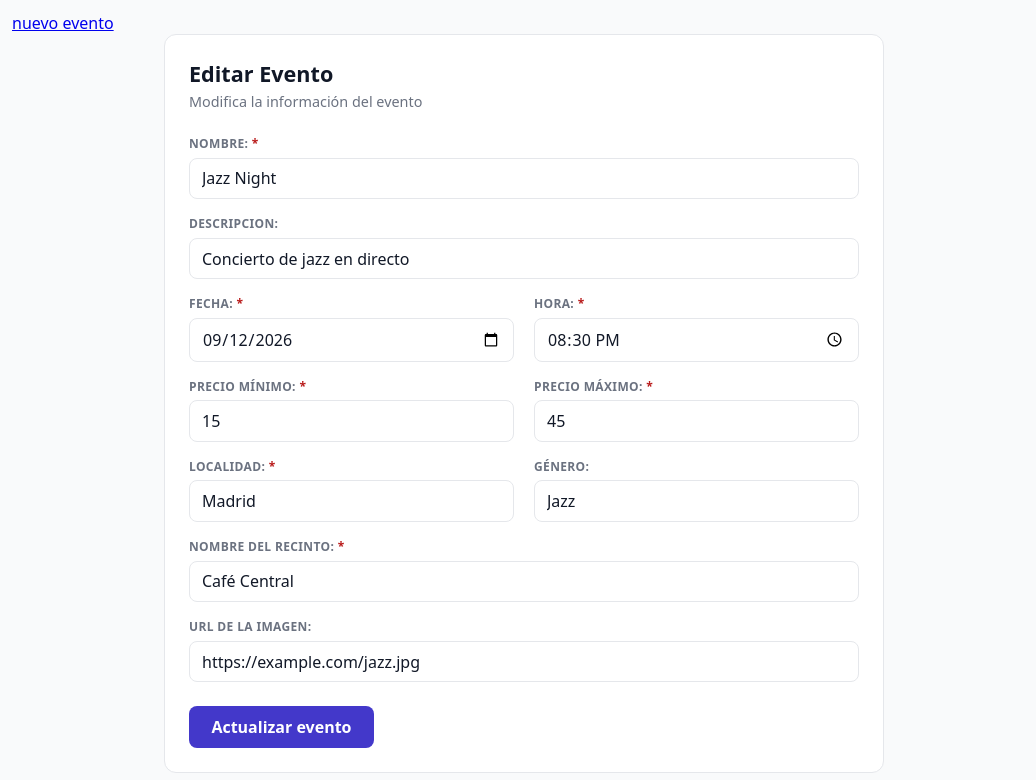
Test case: EventForm › edit mode (route with :id) › resets to an empty create form when navigating from edit to add
Expected: the field labelled "Nombre:" holds "Jazz Night", 189,158 -> 859,199
Step 1. Click the link "nuevo evento" → (63, 23), box 12,12 -> 114,34
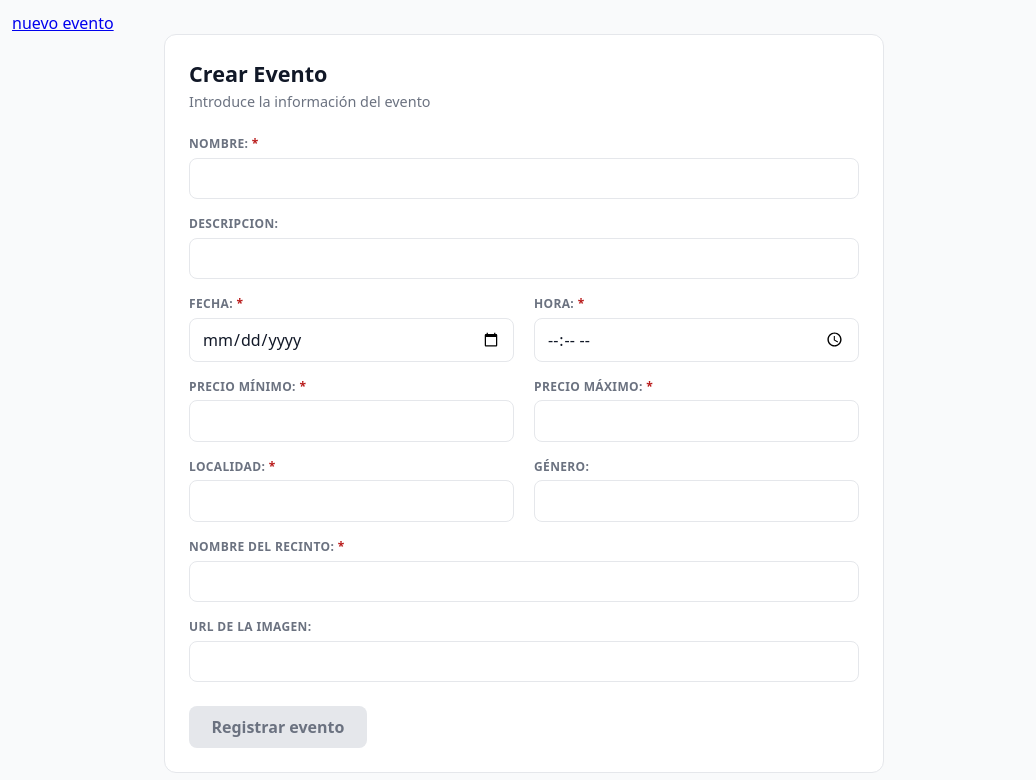
Result: the field labelled "Nombre:" is empty at 189,158 -> 859,199
Result: the heading "Crear Evento" is shown at 189,59 -> 327,88
